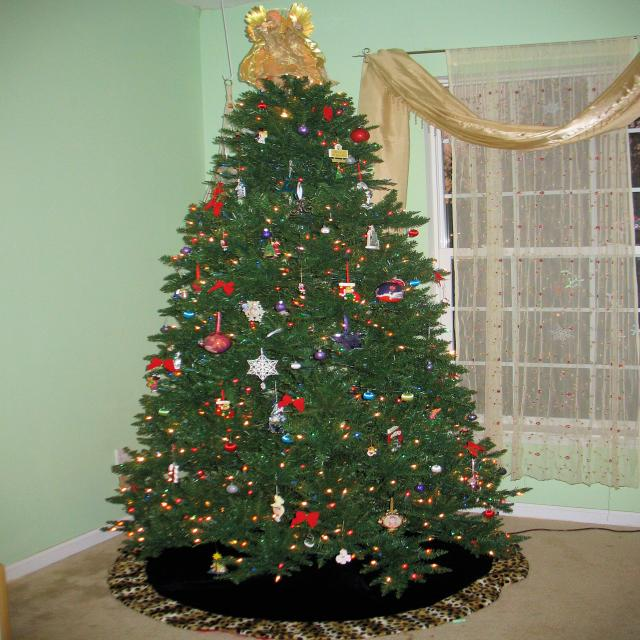Christmas-tree: (180, 100, 390, 582)
